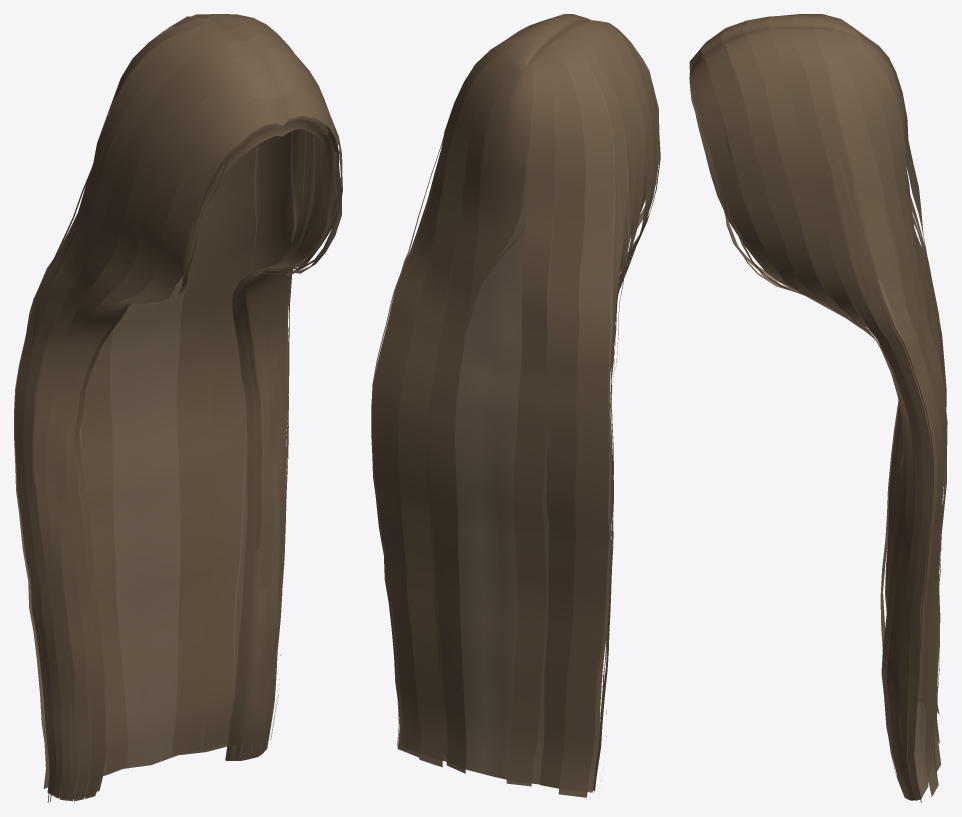
The model's file is long01.glb.
3 views of the same model, side by side, from view 1: azimuth 30°, elevation 25°; view 2: azimuth 150°, elevation 25°; view 3: azimuth 270°, elevation 25° (orthographic). The views are drawn at different scales.
Parts seen in each view (by area): view 1: long01; view 2: long01; view 3: long01.
Part boxes in pixels (<box>): long01: <box>14,14,342,802</box>; long01: <box>371,14,660,798</box>; long01: <box>689,14,947,802</box>.
Bounding box in the file's own units: 0.2457 × 0.6874 × 0.218.
